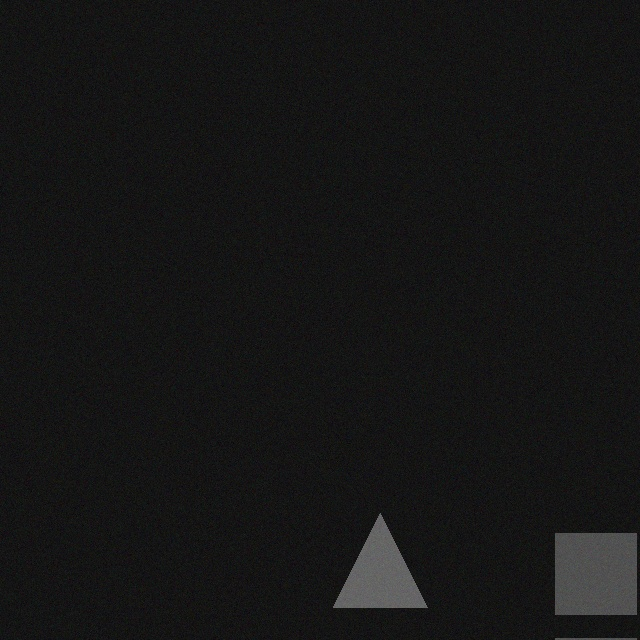square: (550, 546, 631, 627)
triangle: (328, 526, 422, 620)
